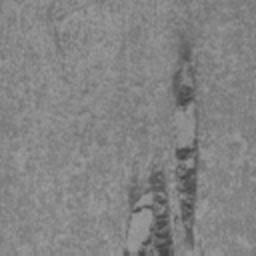Oxide scale of plate system: (172, 28, 200, 250), (122, 163, 177, 256)
